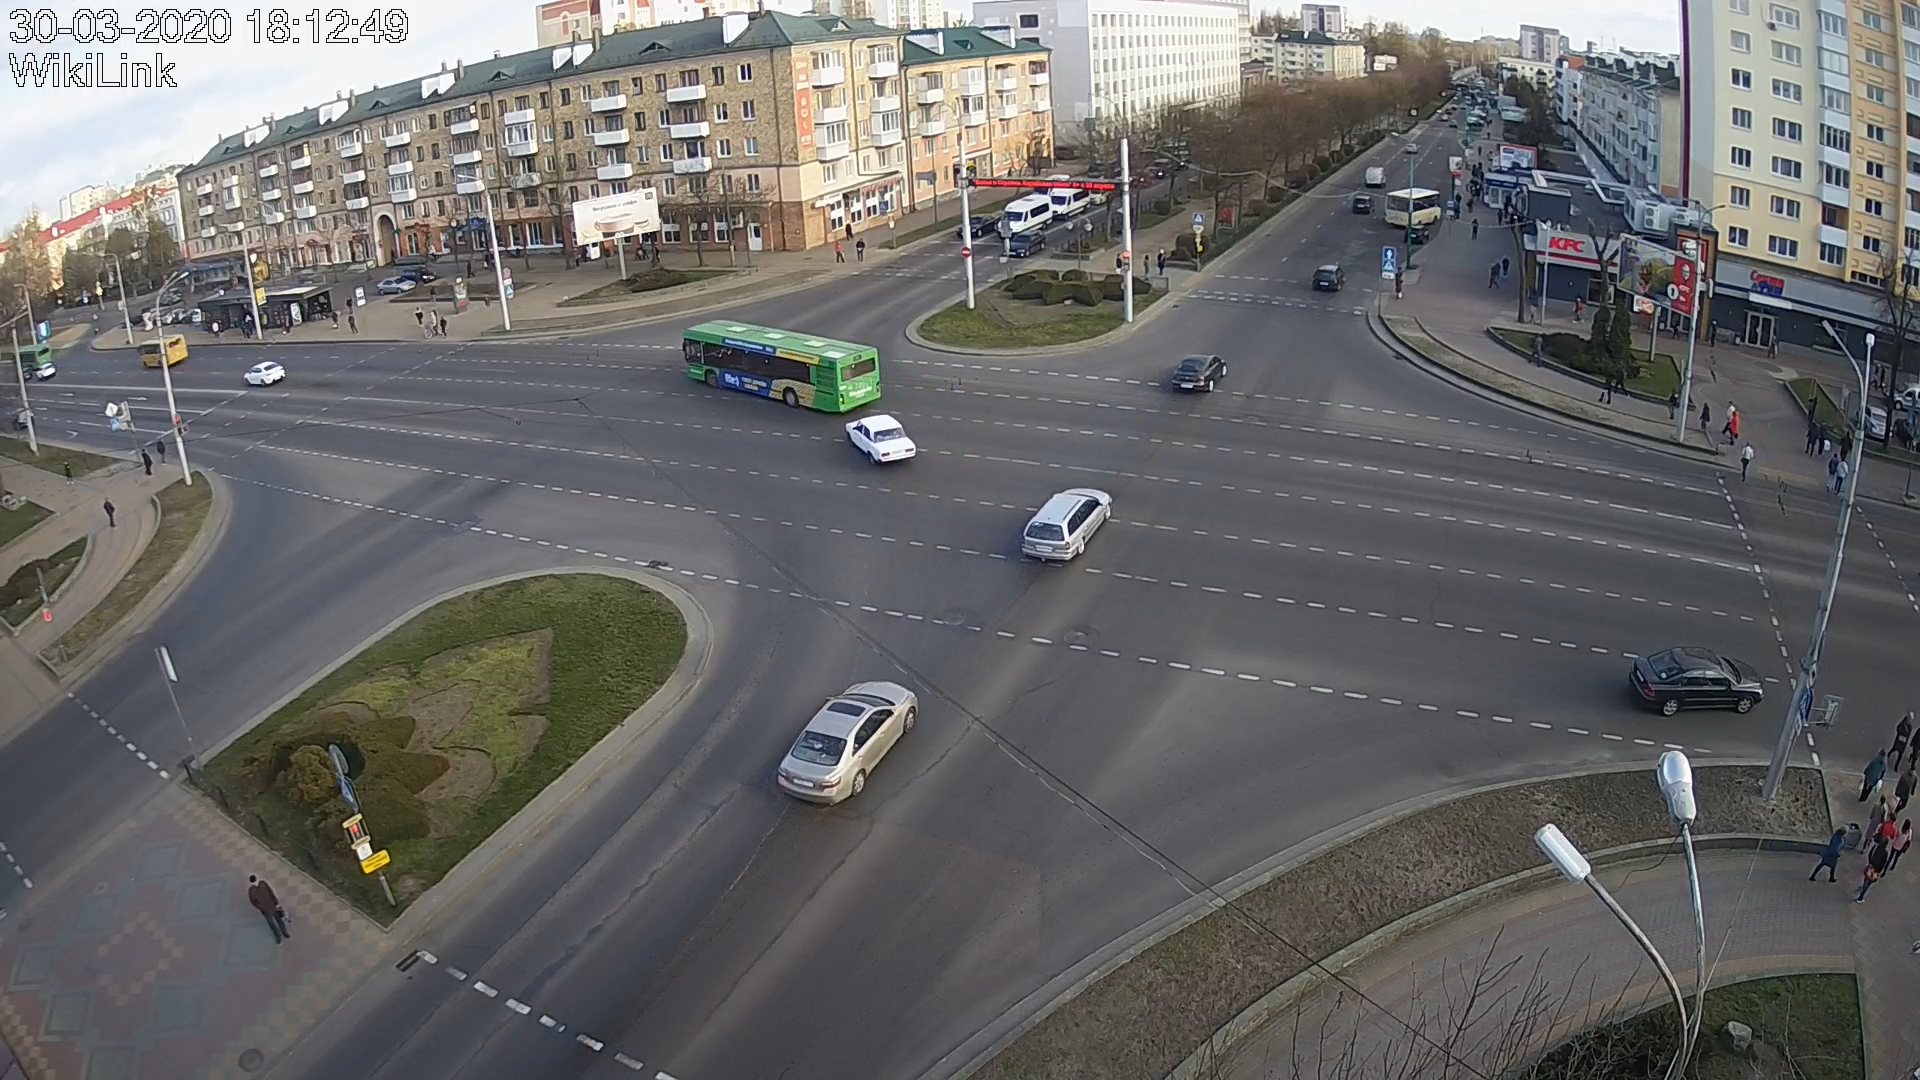bus: (682, 319, 882, 413)
car: (777, 680, 919, 806), (1629, 645, 1764, 716), (1021, 488, 1113, 562), (845, 414, 916, 465), (1000, 194, 1054, 240), (1174, 353, 1228, 392), (1010, 228, 1047, 257), (243, 361, 285, 386), (957, 214, 1000, 237), (1313, 262, 1346, 291)
